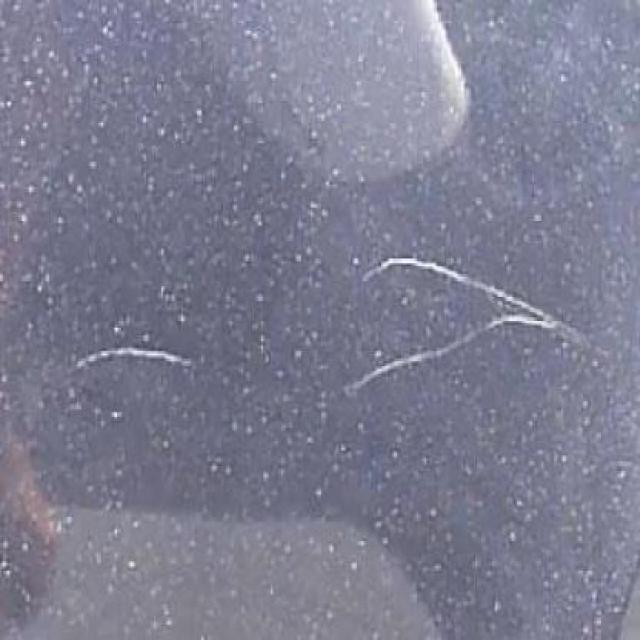scratch: (323, 235, 634, 427), (72, 328, 196, 382)
